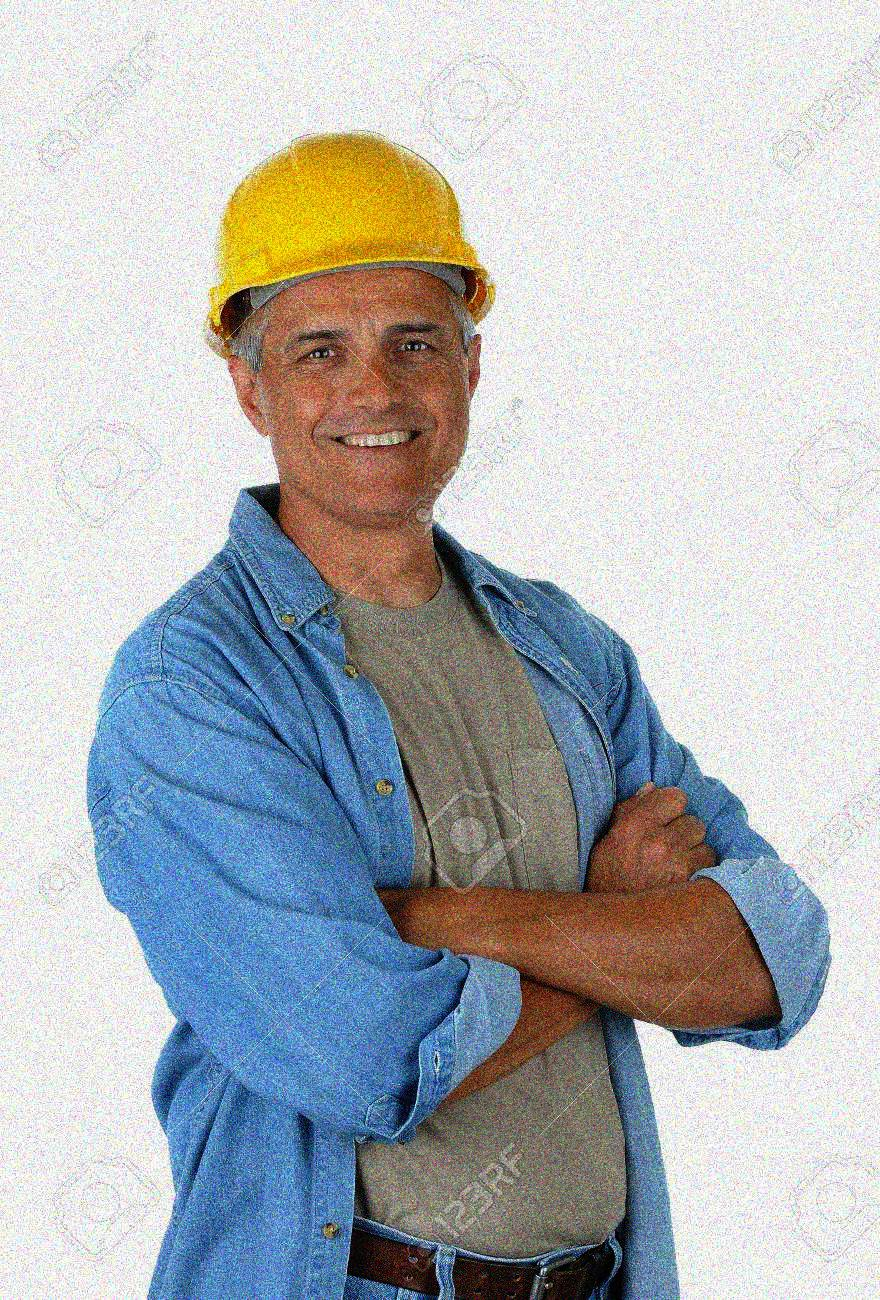helmet: (202, 127, 495, 525)
